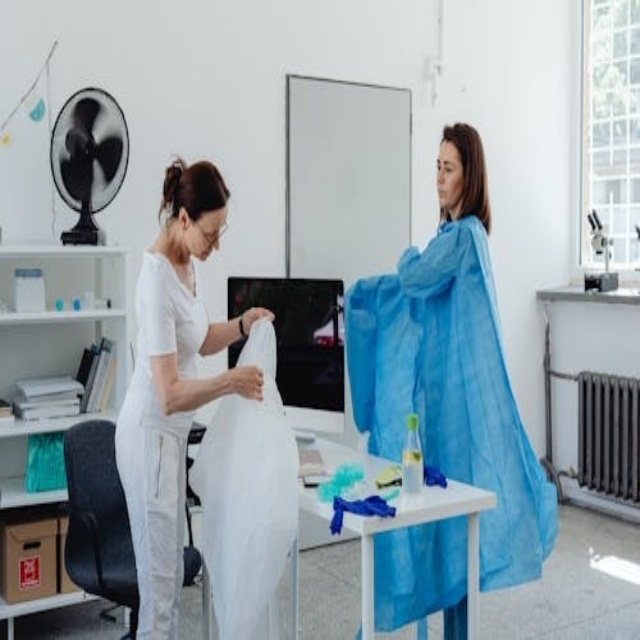Gafas: (194, 217, 227, 246)
Sin_gafas: (436, 159, 460, 174)
Sin_mascara: (191, 240, 214, 265), (435, 177, 451, 202)
